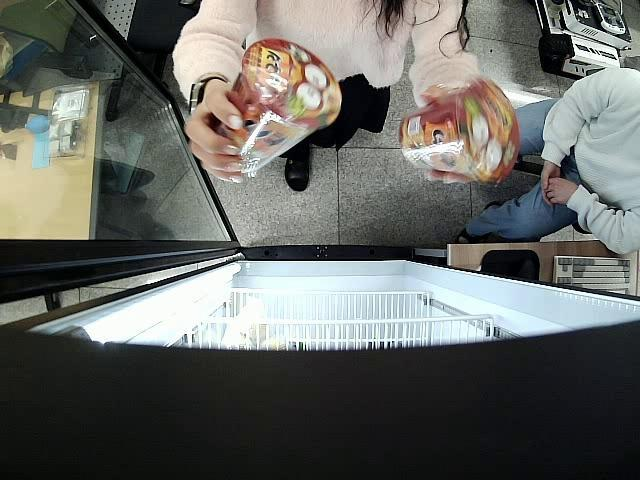06_nuguri_S: (208, 38, 340, 175), (398, 77, 522, 185)
